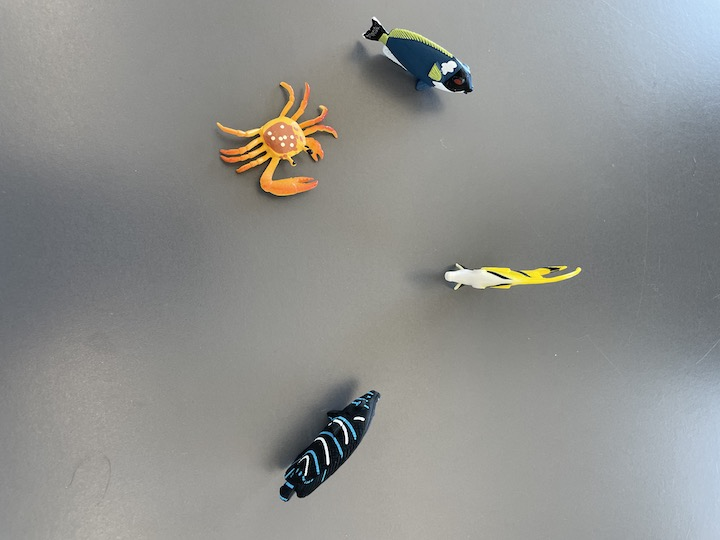crab: (212, 78, 343, 202)
danger: (440, 261, 586, 296)
fish: (276, 389, 384, 502), (360, 15, 476, 98)
